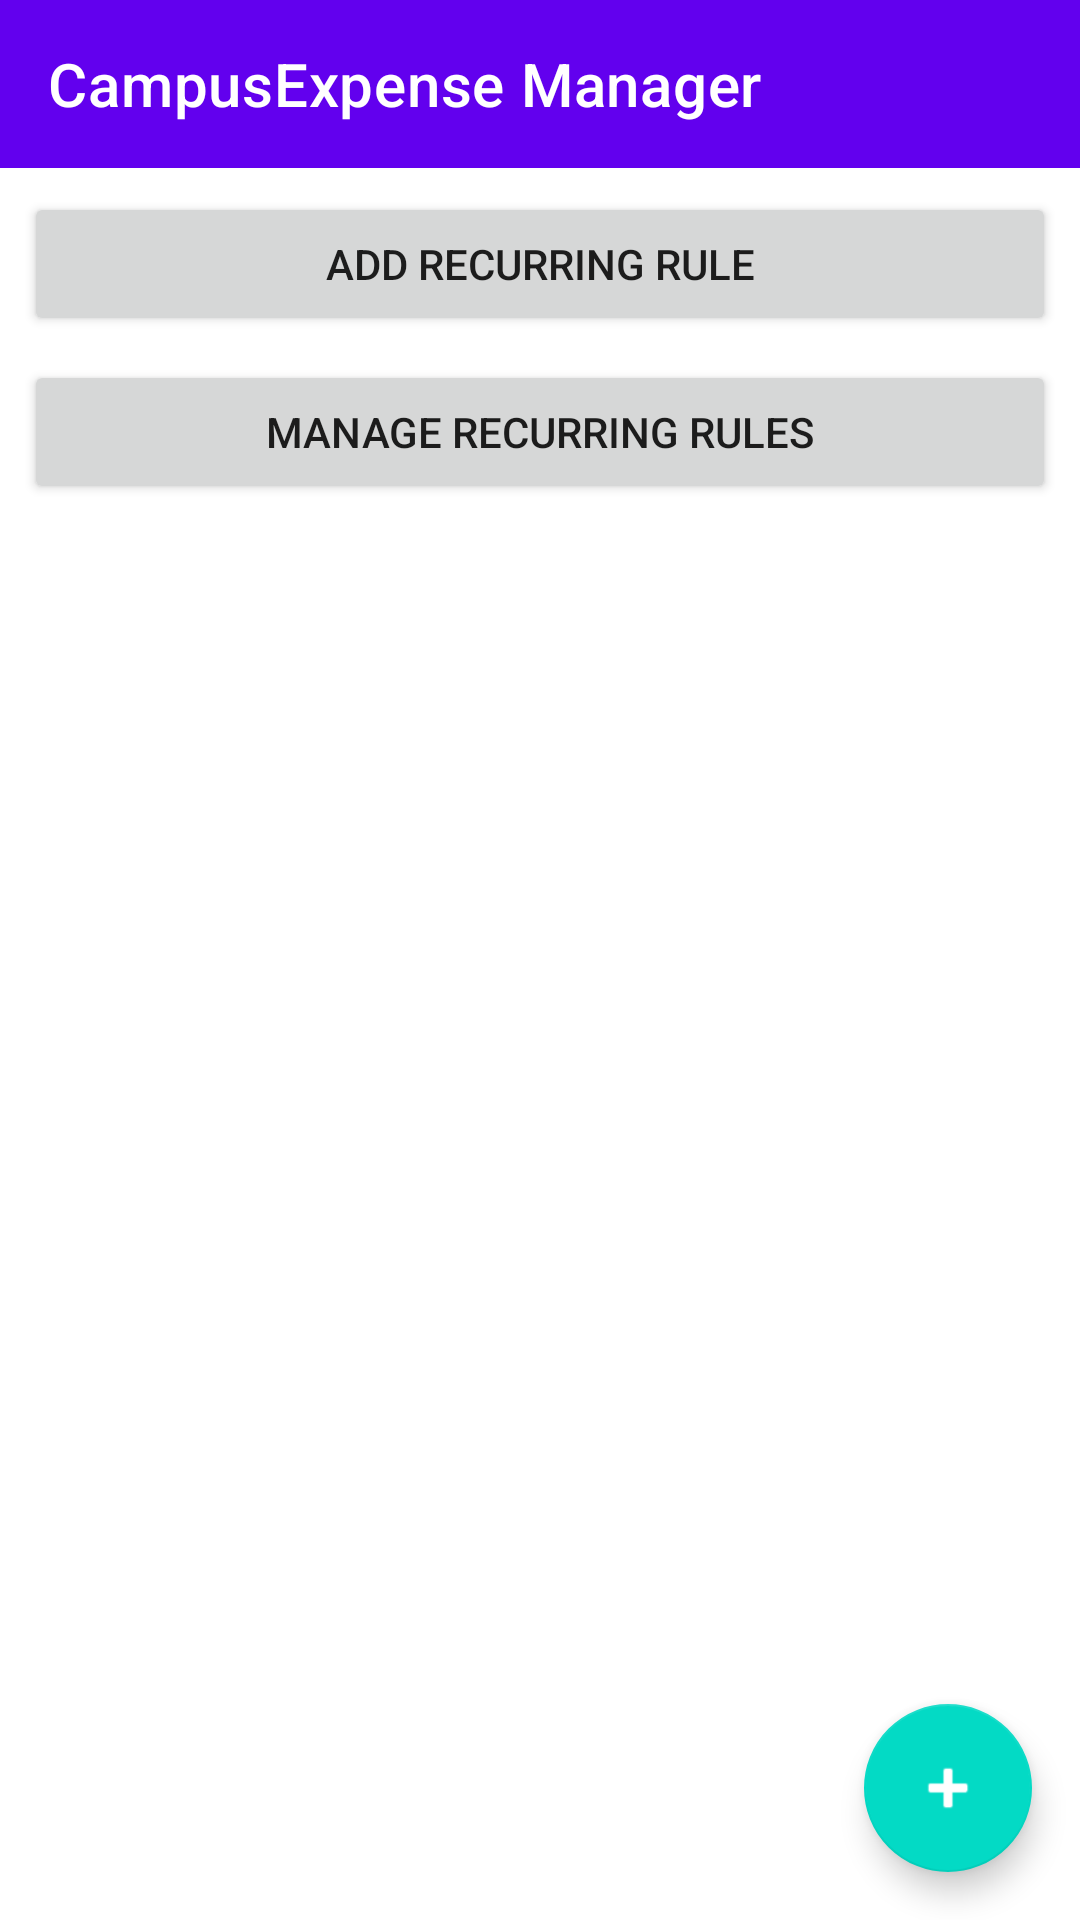

Named icons in this screenshot (1080x1920) and their bounding boxes, (x1, y1, x2, y2):
Add Expense: (864, 1704, 1032, 1872)
